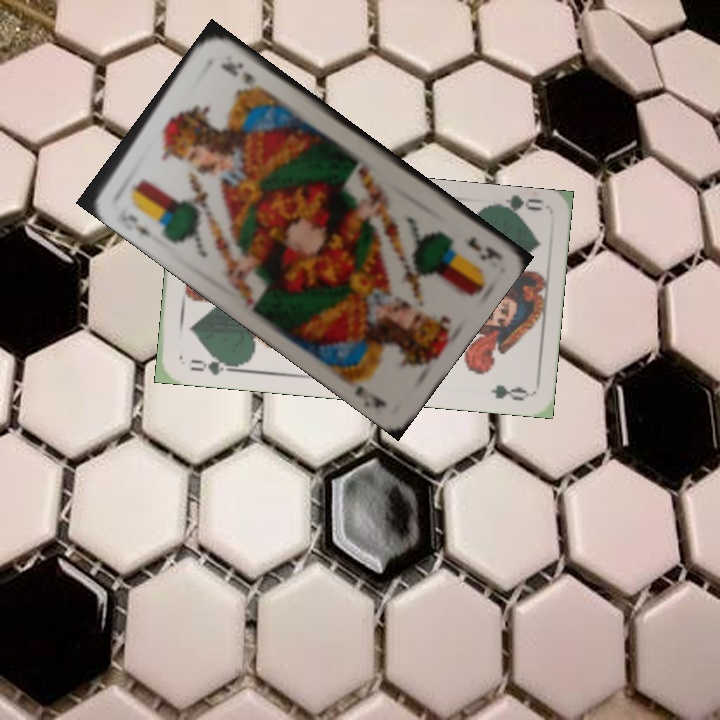EK: (116, 202, 157, 242), (462, 232, 500, 263)
GO: (486, 193, 544, 221), (186, 352, 240, 378)
